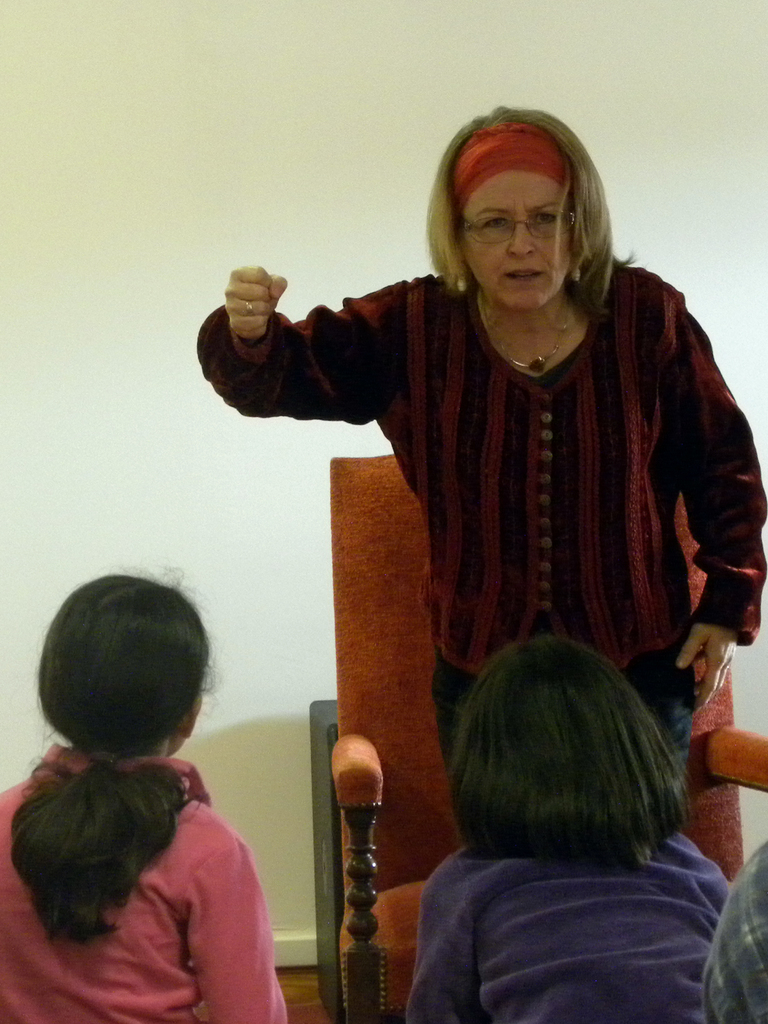Human_hand: (217, 245, 301, 340), (676, 624, 742, 713)
